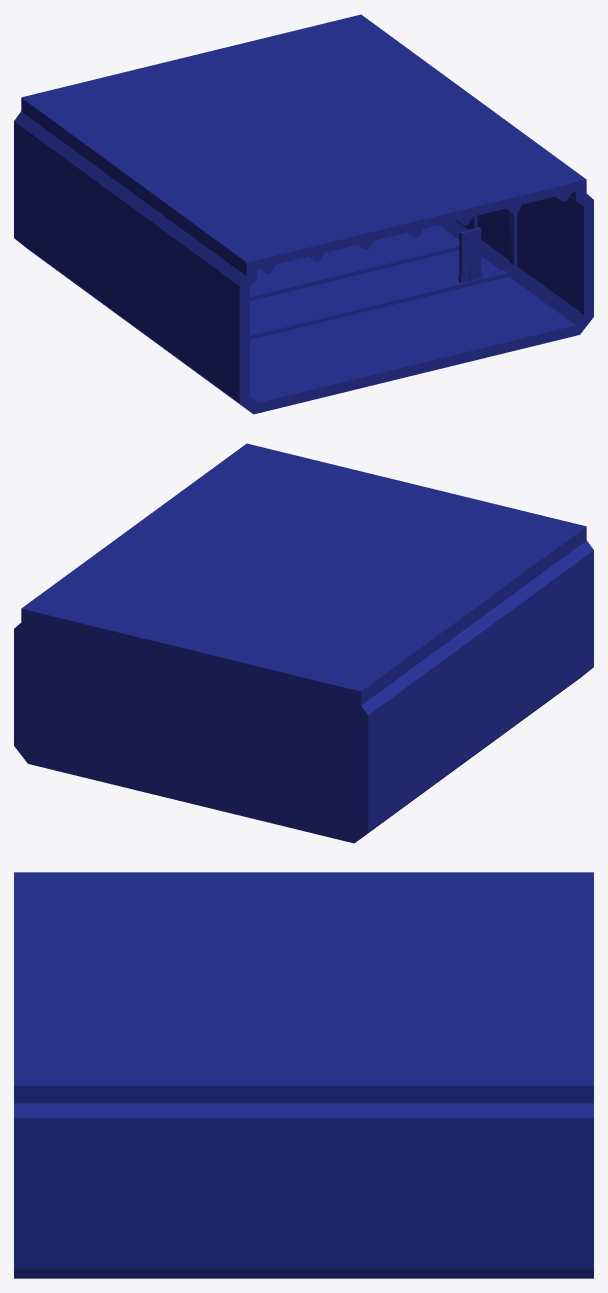
File: sala9-Entrenamiento-01.FBX
3 views of the same model, one above another, from view 1: azimuth 30°, elevation 25°; view 2: azimuth 150°, elevation 25°; view 3: azimuth 270°, elevation 25° (orthographic). The views are drawn at different scales.
Parts seen in each view (by area): view 1: sala9, deco, diana-01; view 2: sala9; view 3: sala9.
Boxes of the visible parts, x1,y1,x2,y2 form: sala9: (14, 14, 593, 414); deco: (249, 193, 570, 339); diana-01: (458, 227, 481, 283); sala9: (14, 443, 593, 843); sala9: (14, 872, 593, 1278).
Bounding box in the file's own units: 1743 × 722 × 1922.
